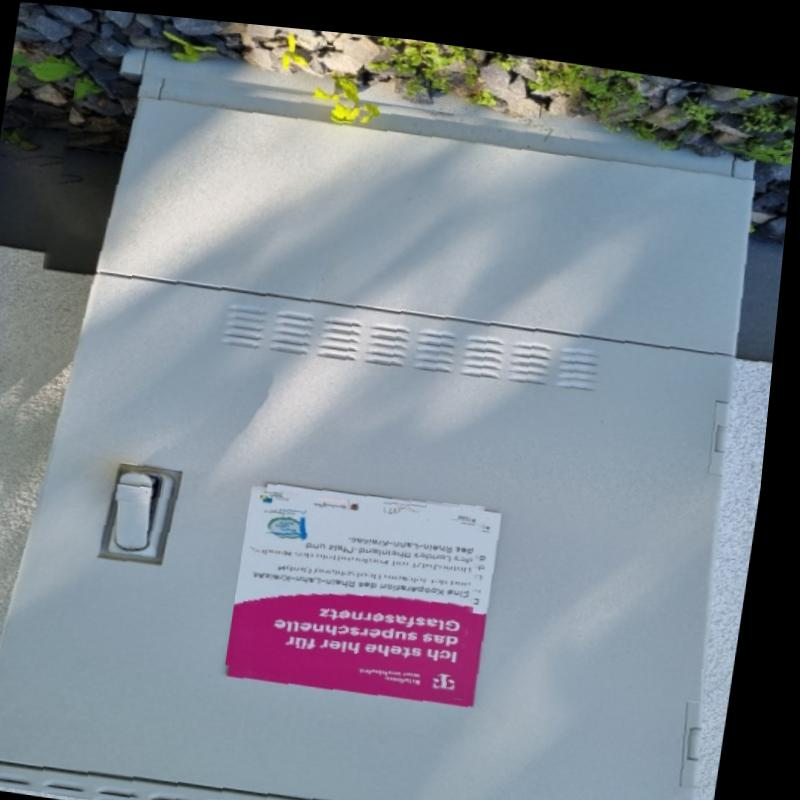NT-Gehause: (0, 68, 744, 800)
Steaker: (238, 476, 492, 689)
